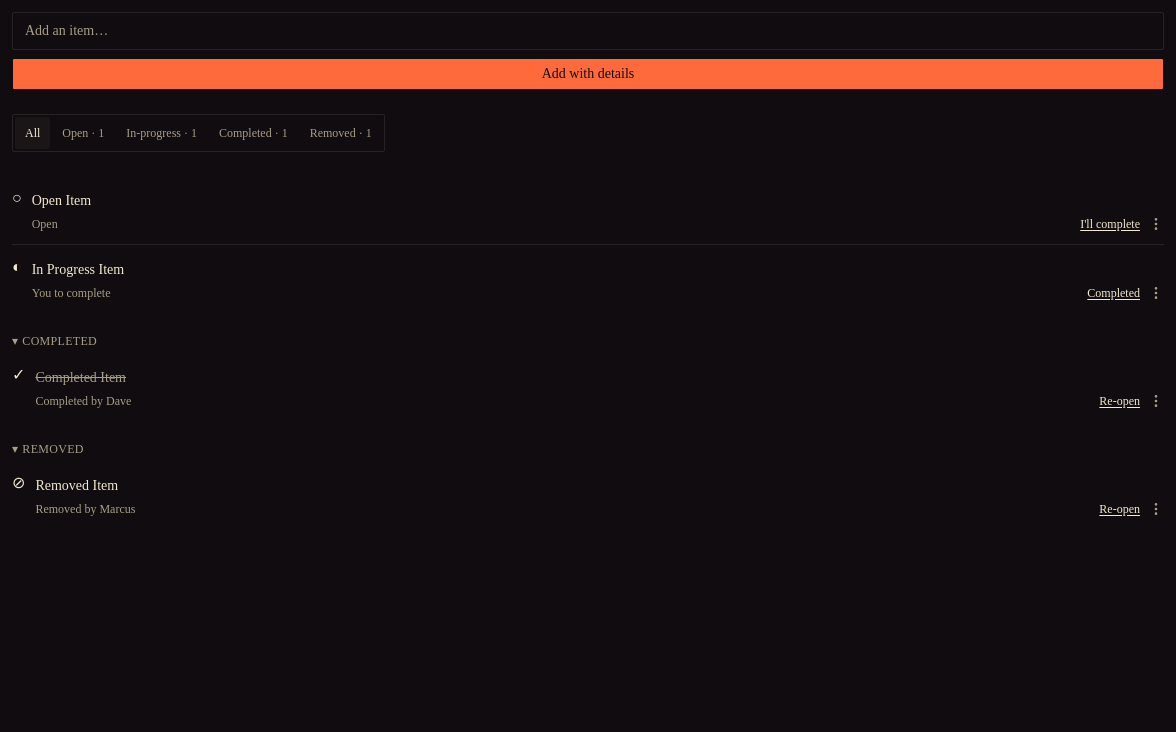
Test: <ShoppingList /> › clicking the Open tab filters to only open items
Step 1. Click the button "Open · 1" → coordinates (83, 133), box [52,117,114,149]
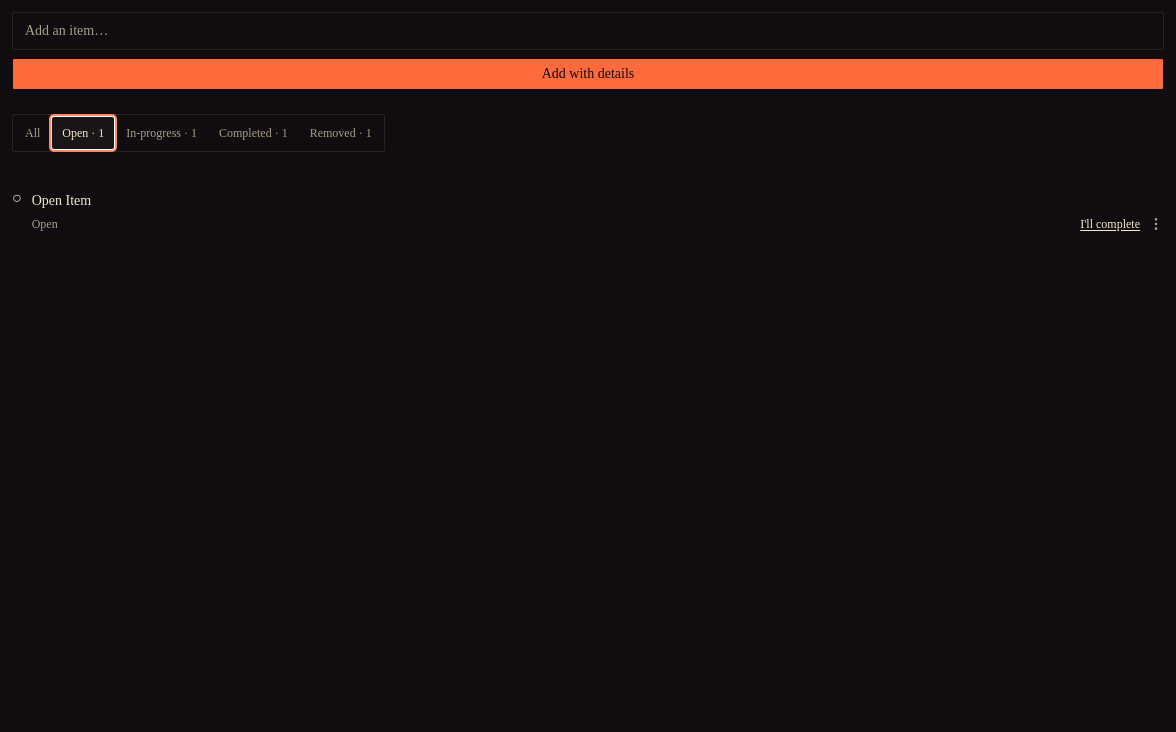
Check: the button "In Progress Item" is gone
Check: the button "Completed Item" is gone
Check: the button "Removed Item" is gone
